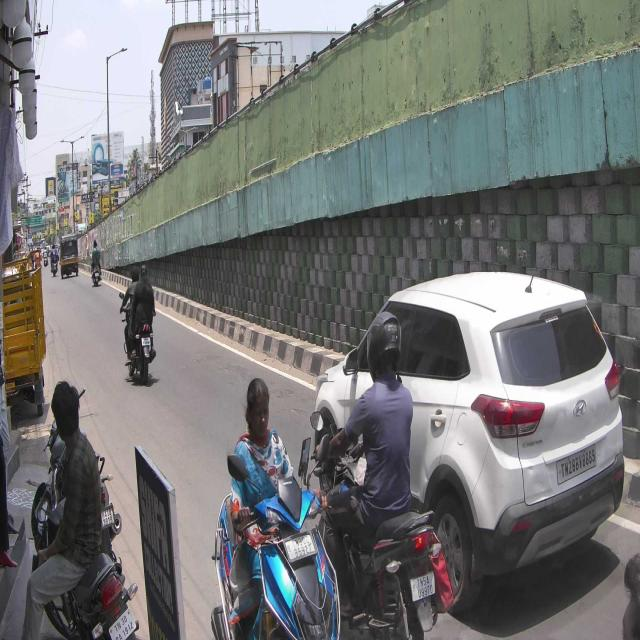single_rider: (316, 309, 448, 640), (211, 378, 312, 640)
